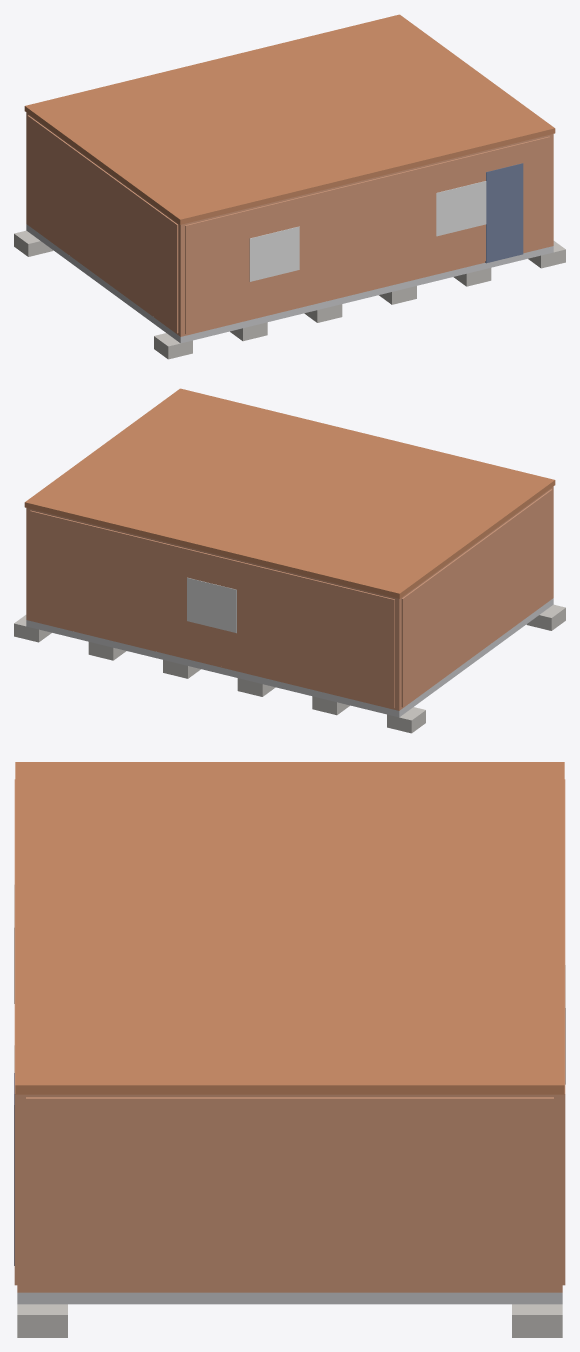
The model's file is Studio-30-Base-Terracotta-LOD0.glb.
3 views of the same model, one above another, from view 1: azimuth 30°, elevation 25°; view 2: azimuth 150°, elevation 25°; view 3: azimuth 270°, elevation 25° (orthographic). The views are drawn at different scales.
Visible parts, largest first — view 1: RoofMain, ExteriorPanelsStandard, WindowsStandard, BaseFrame, FoundationBlocks, ExteriorShell, EntryDoor; view 2: RoofMain, ExteriorPanelsStandard, BaseFrame, FoundationBlocks, ExteriorShell, WindowsStandard; view 3: RoofMain, ExteriorPanelsStandard, ExteriorShell, BaseFrame, FoundationBlocks.
Part boxes in pixels (left/top/right/bottom): RoofMain: left=24, top=14, right=555, bottom=224; ExteriorPanelsStandard: left=27, top=115, right=550, bottom=334; WindowsStandard: left=249, top=181, right=486, bottom=281; BaseFrame: left=26, top=224, right=553, bottom=343; FoundationBlocks: left=14, top=230, right=565, bottom=359; ExteriorShell: left=26, top=112, right=553, bottom=336; EntryDoor: left=485, top=163, right=523, bottom=263; RoofMain: left=24, top=388, right=555, bottom=598; ExteriorPanelsStandard: left=30, top=489, right=552, bottom=708; BaseFrame: left=26, top=598, right=553, bottom=717; FoundationBlocks: left=14, top=604, right=565, bottom=733; ExteriorShell: left=26, top=486, right=553, bottom=710; WindowsStandard: left=187, top=577, right=236, bottom=633; RoofMain: left=15, top=762, right=564, bottom=1094; ExteriorPanelsStandard: left=14, top=779, right=565, bottom=1289; ExteriorShell: left=17, top=1094, right=562, bottom=1292; BaseFrame: left=17, top=1292, right=562, bottom=1304; FoundationBlocks: left=17, top=1304, right=562, bottom=1337.
Bounding box in the file's own units: 9.6 × 3.17 × 6.53.
